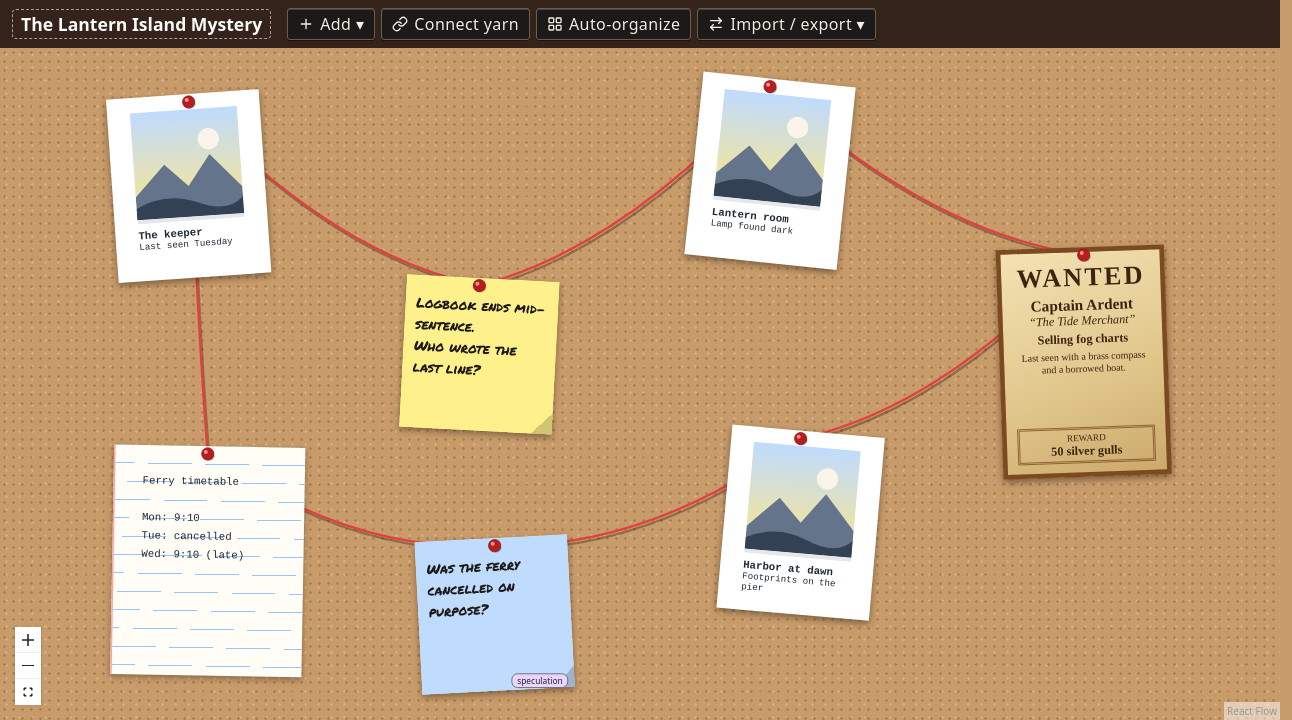
Test: editor keyboard behaviour › title edit: Enter saves, Escape cancels, maxLength 50
The image size is (1292, 720).
Click the button with aria-label "Board title": click(142, 24) [12,9,271,39]
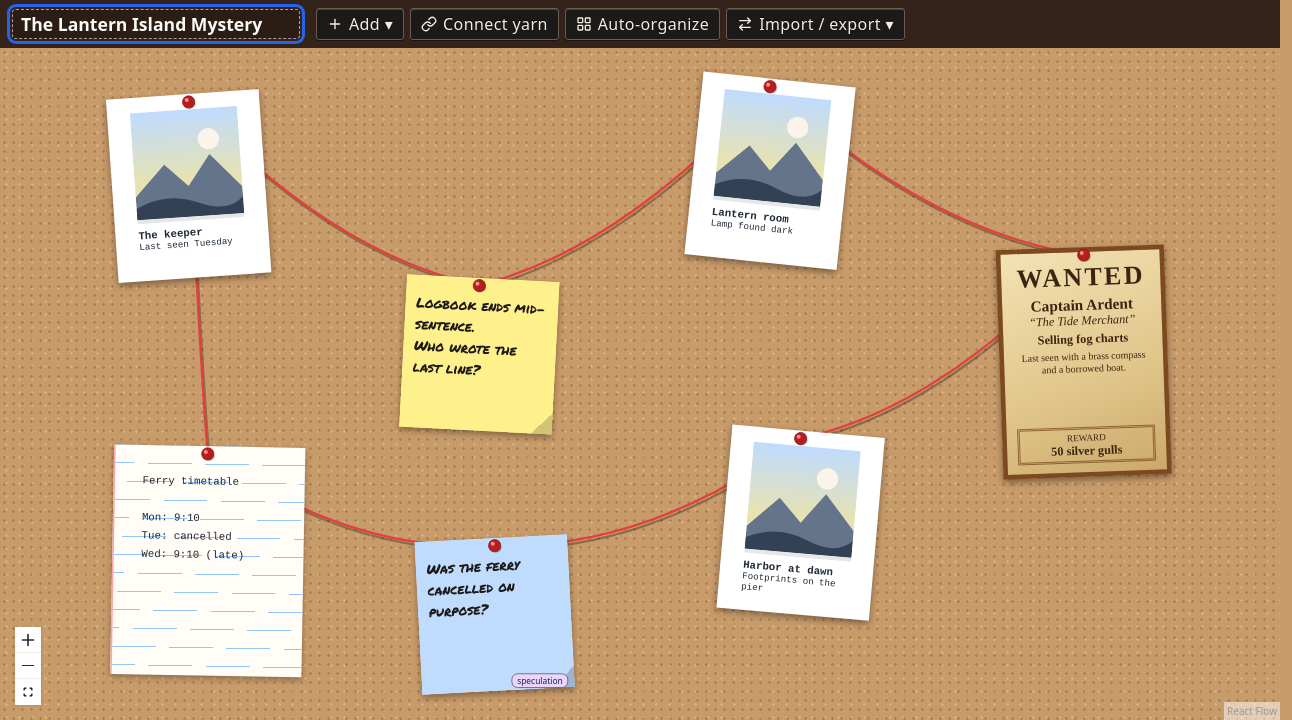
Replace the text in the field named "Board title" with "Abandoned": (156, 24) [12,9,300,39]
Then press Escape
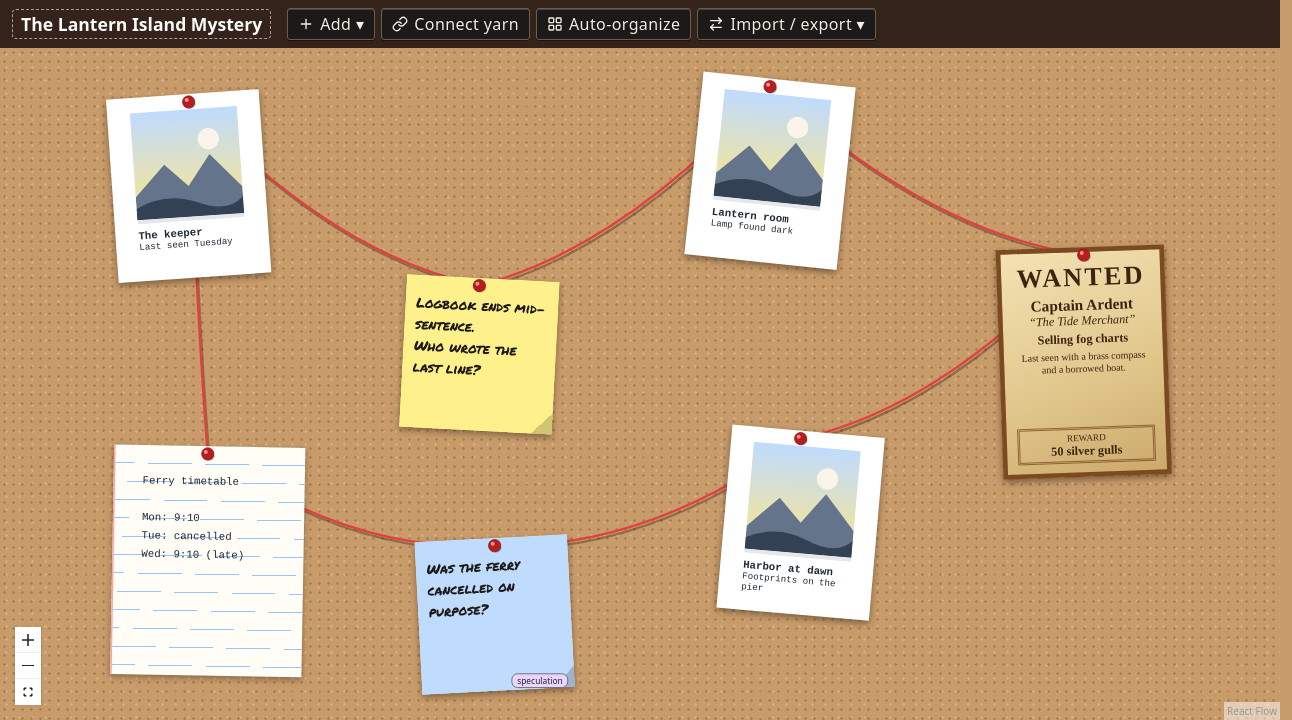
Now the button "The Lantern Island Mystery" is shown
Click the button with aria-label "Board title": click(142, 24) [12,9,271,39]
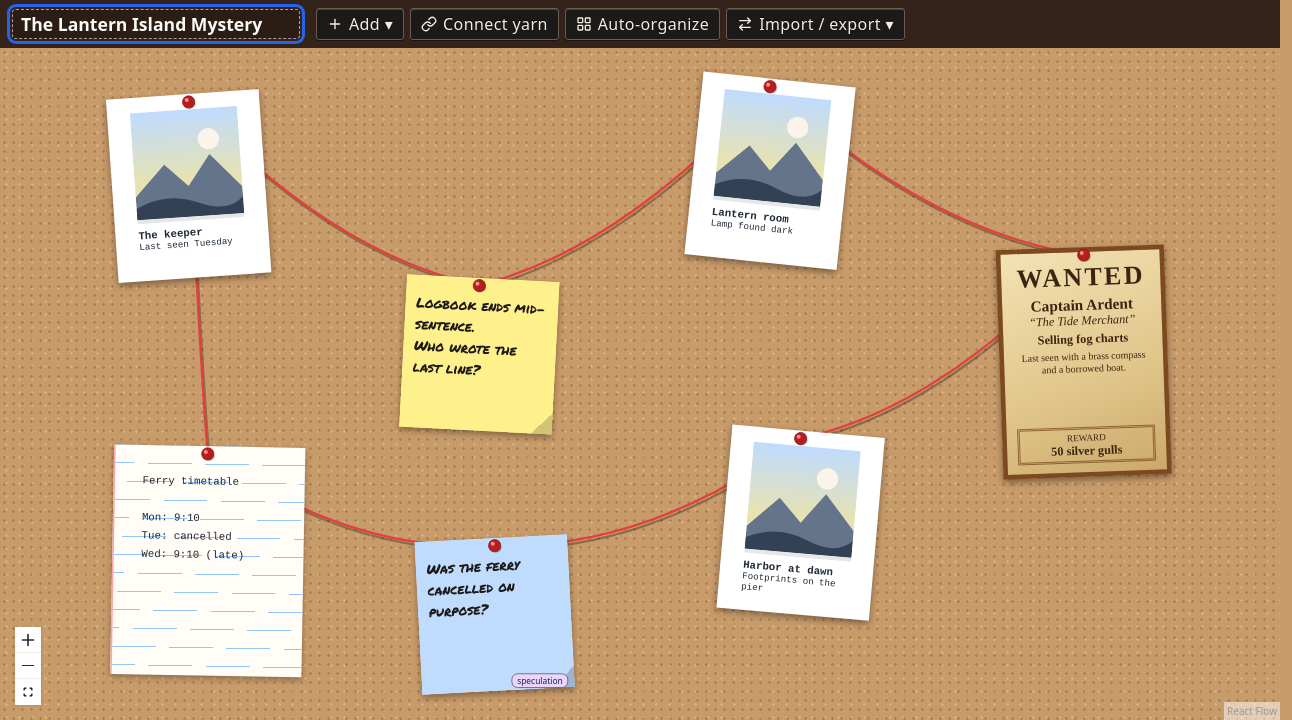
Replace the text in the field named "Board title" with "Fresh title": (156, 24) [12,9,300,39]
Then press Enter
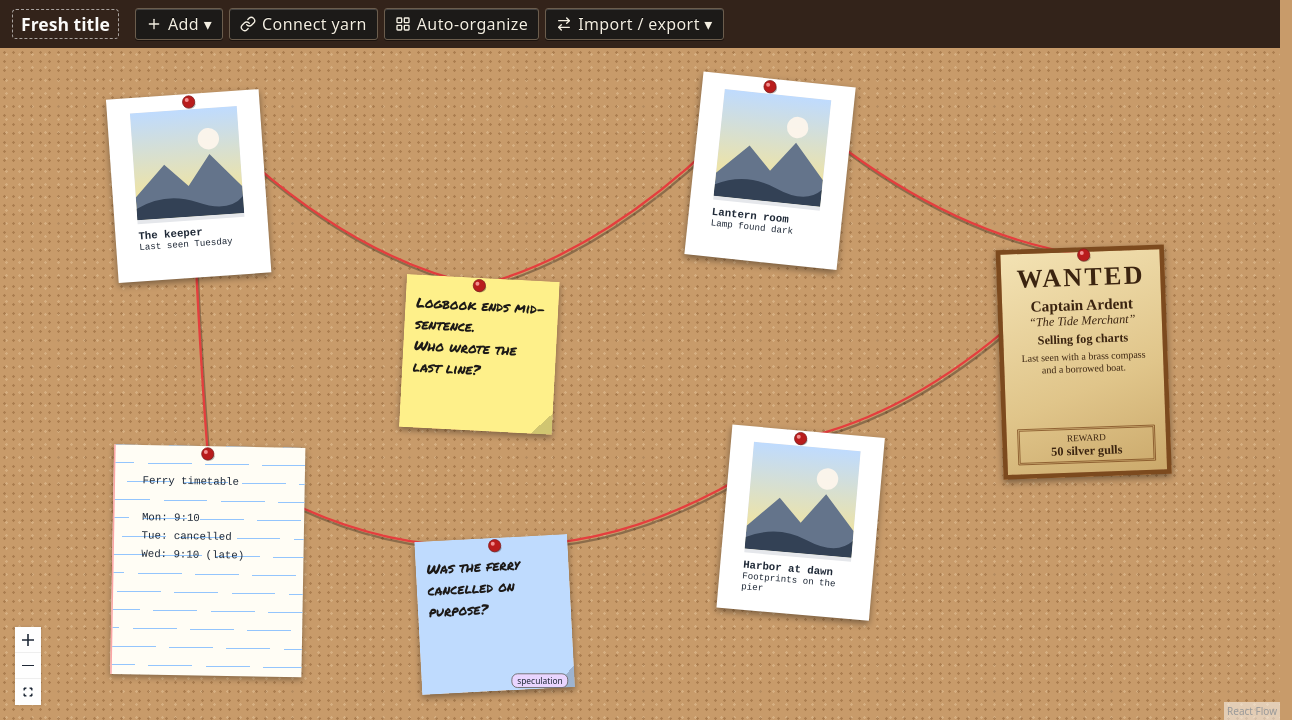
Now the button "Fresh title" is shown, box [12,9,119,39]
